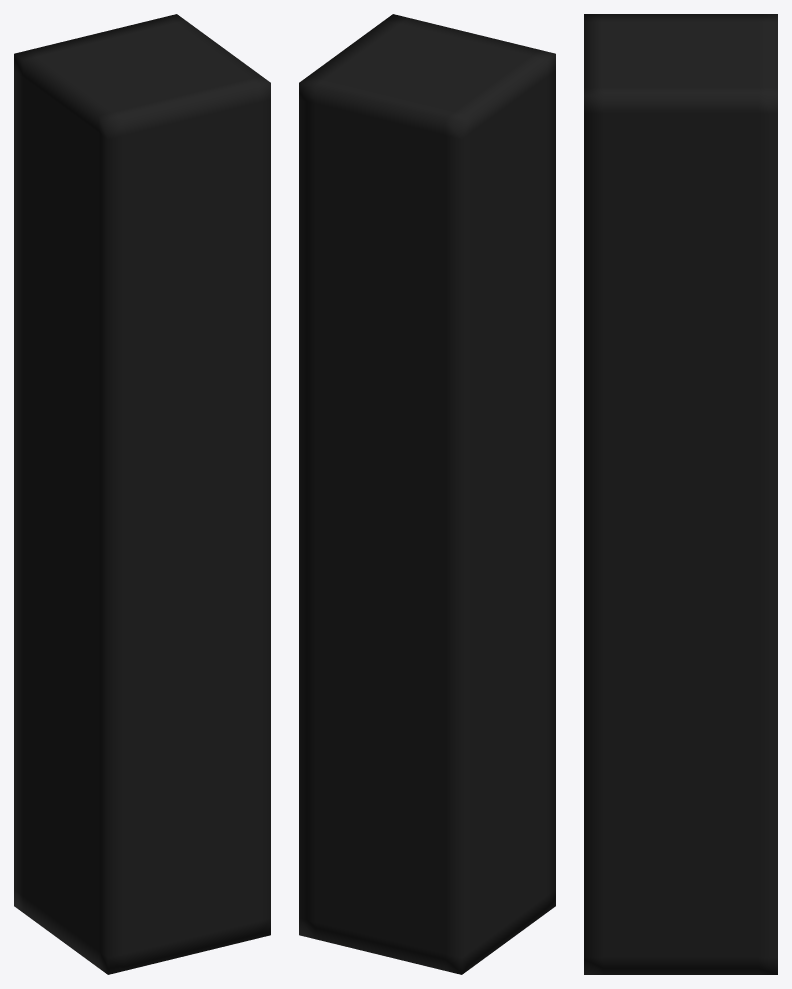
Rendered from font_i.glb.
The picture shows the model from 3 angles, left to right: view 1: azimuth 30°, elevation 25°; view 2: azimuth 150°, elevation 25°; view 3: azimuth 270°, elevation 25°; orthographic projection. The views are drawn at different scales.
Parts seen in each view (by area): view 1: letter_i; view 2: letter_i; view 3: letter_i.
Boxes of the visible parts, x1,y1,x2,y2 form: letter_i: [14, 14, 270, 974]; letter_i: [299, 14, 555, 974]; letter_i: [584, 14, 777, 974].
Bounding box in the file's own units: 0.2 × 1 × 0.2.
1 material, 1 textured.
